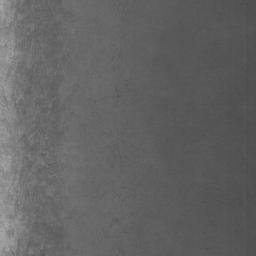Silk spot: (3, 185, 63, 256), (11, 116, 64, 186), (7, 57, 43, 127), (5, 0, 48, 51), (35, 75, 65, 114), (47, 39, 62, 48), (53, 22, 61, 38), (6, 226, 14, 238), (40, 246, 48, 256)
